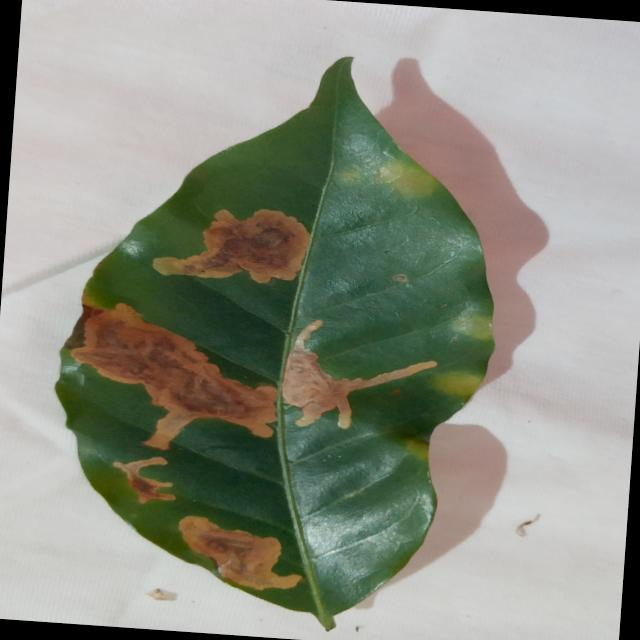KaratDaunKopi: (71, 303, 276, 449), (282, 319, 437, 428), (153, 209, 310, 283), (179, 516, 302, 590), (113, 457, 175, 503), (380, 160, 439, 197), (63, 304, 94, 349), (432, 371, 480, 398), (452, 311, 492, 339), (82, 288, 100, 307), (392, 273, 408, 282)
PengorokDaunKopi: (412, 180, 412, 180)
